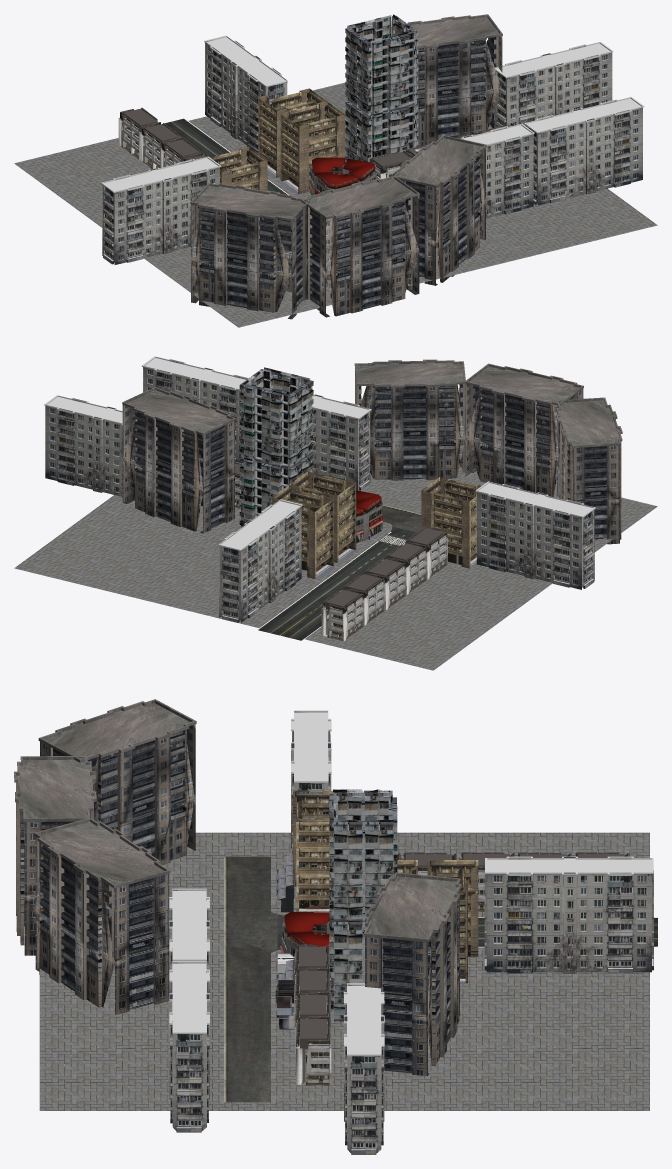
Rendered from street-set.glb.
The picture shows the model from 3 angles, top to bottom: view 1: azimuth 30°, elevation 25°; view 2: azimuth 150°, elevation 25°; view 3: azimuth 270°, elevation 25°; orthographic projection. The views are drawn at different scales.
Visible parts, largest first — view 1: Cube_da2642e543a3f06231cecae91a2562d4_0, Cube.003_56ef4e30bfca8ac25300c77d7c17d7bc_0, Plane.001_Material.006_0, Cube_Material.003_0, 1 (1)_1 (1)_0, 2 (1).001_2 (1)_0, Cube.003_Material.004_0, Cube.001_c83d86f3dd59d547cc310ce502d8f9ac_0, object 4, Cube.001_Material.007_0, Plane_Material.005_0; view 2: Cube_da2642e543a3f06231cecae91a2562d4_0, Plane.001_Material.006_0, Cube.003_56ef4e30bfca8ac25300c77d7c17d7bc_0, Cube_Material.003_0, 2 (1).001_2 (1)_0, 1 (1)_1 (1)_0, Cube.003_Material.004_0, Cube.001_c83d86f3dd59d547cc310ce502d8f9ac_0, Plane_Material.005_0, Cube.001_Material.007_0, object 4; view 3: Plane.001_Material.006_0, Cube_da2642e543a3f06231cecae91a2562d4_0, Cube.003_56ef4e30bfca8ac25300c77d7c17d7bc_0, Cube_Material.003_0, Cube.003_Material.004_0, Plane_Material.005_0, 1 (1)_1 (1)_0, 2 (1).001_2 (1)_0, Cube.001_c83d86f3dd59d547cc310ce502d8f9ac_0, Cube.001_Material.007_0, object 4, 4_4_0.
Boxes of the visible parts, x1,y1,x2,y2 form: Cube_da2642e543a3f06231cecae91a2562d4_0: [191, 36, 502, 319]; Cube.003_56ef4e30bfca8ac25300c77d7c17d7bc_0: [102, 40, 642, 264]; Plane.001_Material.006_0: [14, 82, 657, 327]; Cube_Material.003_0: [190, 14, 502, 221]; 1 (1)_1 (1)_0: [345, 14, 418, 182]; 2 (1).001_2 (1)_0: [210, 88, 345, 194]; Cube.003_Material.004_0: [101, 35, 644, 192]; Cube.001_c83d86f3dd59d547cc310ce502d8f9ac_0: [118, 107, 514, 179]; object 4: [308, 157, 376, 195]; Cube.001_Material.007_0: [123, 108, 511, 172]; Plane_Material.005_0: [161, 118, 289, 195]; Cube_da2642e543a3f06231cecae91a2562d4_0: [122, 369, 621, 544]; Plane.001_Material.006_0: [14, 462, 657, 670]; Cube.003_56ef4e30bfca8ac25300c77d7c17d7bc_0: [45, 360, 594, 622]; Cube_Material.003_0: [122, 359, 622, 448]; 2 (1).001_2 (1)_0: [272, 471, 481, 579]; 1 (1)_1 (1)_0: [239, 367, 313, 527]; Cube.003_Material.004_0: [44, 356, 595, 550]; Cube.001_c83d86f3dd59d547cc310ce502d8f9ac_0: [235, 462, 447, 641]; Plane_Material.005_0: [257, 505, 421, 640]; Cube.001_Material.007_0: [235, 463, 443, 609]; object 4: [356, 490, 382, 542]; Plane.001_Material.006_0: [39, 832, 649, 1110]; Cube_da2642e543a3f06231cecae91a2562d4_0: [16, 724, 459, 1076]; Cube.003_56ef4e30bfca8ac25300c77d7c17d7bc_0: [169, 711, 653, 1154]; Cube_Material.003_0: [14, 699, 461, 942]; Cube.003_Material.004_0: [169, 710, 653, 1056]; Plane_Material.005_0: [224, 856, 657, 1102]; 1 (1)_1 (1)_0: [329, 789, 397, 1021]; 2 (1).001_2 (1)_0: [293, 790, 478, 984]; Cube.001_c83d86f3dd59d547cc310ce502d8f9ac_0: [294, 852, 629, 1085]; Cube.001_Material.007_0: [299, 854, 624, 1048]; object 4: [280, 911, 329, 969]; 4_4_0: [277, 854, 294, 1003].
Bounding box in the file's own units: 10.87 × 3.07 × 8.58.
17 materials, 15 textured.
